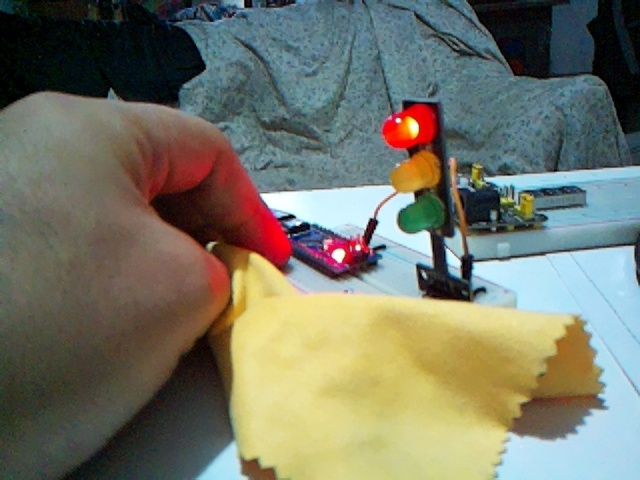traffic_light_red: (384, 100, 472, 287)
